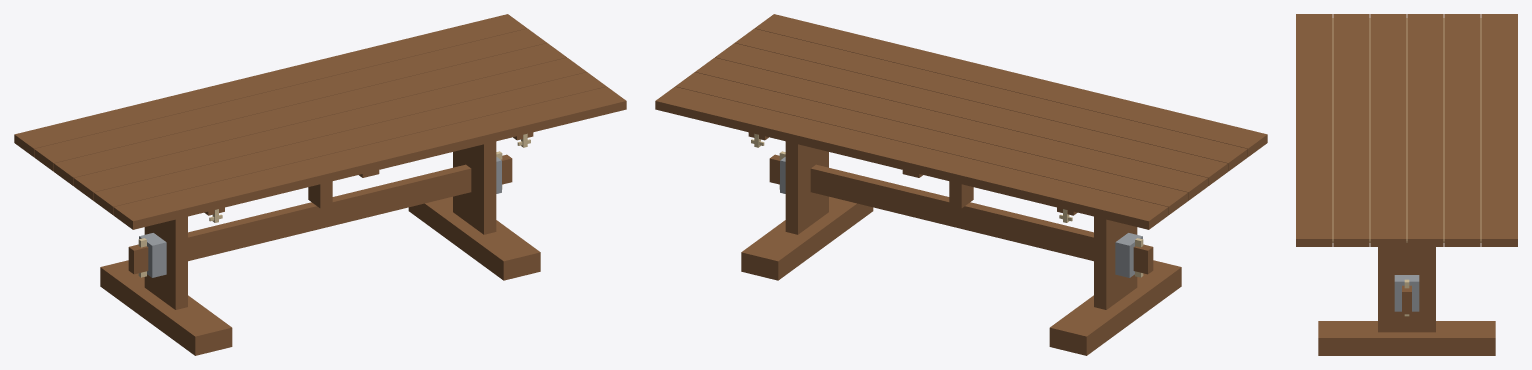
3 views of the same model, side by side, from view 1: azimuth 30°, elevation 25°; view 2: azimuth 150°, elevation 25°; view 3: azimuth 270°, elevation 25° (orthographic). The views are drawn at different scales.
Parts seen in each view (by area): view 1: tabla_1, tabla_6, tabla_2, tabla_3, tabla_4, tabla_5, travesaño, pie_izq, pie_der, montante_der, montante_izq, collar_izq (+1 smaller); view 2: tabla_6, tabla_1, tabla_4, tabla_5, tabla_3, tabla_2, travesaño, pie_izq, pie_der, montante_der, montante_izq, collar_izq (+1 smaller); view 3: tabla_1, tabla_2, tabla_3, tabla_4, tabla_5, tabla_6, pie_der, montante_der, collar_der, lengüeta_1, lengüeta_2, lengüeta_3 (+3 smaller).
Boxes of the visible parts, box(x1,y1,x2,y2) form: tabla_1: box(113, 86, 626, 229); tabla_6: box(14, 14, 527, 156); tabla_2: box(93, 72, 606, 215); tabla_3: box(74, 57, 586, 200); tabla_4: box(54, 43, 566, 186); tabla_5: box(34, 28, 546, 171); travesaño: box(128, 154, 512, 274); pie_izq: box(100, 260, 232, 355); pie_der: box(408, 196, 540, 280); montante_der: box(453, 141, 496, 234); montante_izq: box(144, 216, 187, 309); collar_izq: box(139, 233, 166, 277); tabla_6: box(655, 86, 1168, 229); tabla_1: box(754, 14, 1267, 156); tabla_4: box(695, 57, 1207, 200); tabla_5: box(675, 72, 1188, 215); tabla_3: box(715, 43, 1227, 186); tabla_2: box(735, 28, 1247, 171); travesaño: box(769, 154, 1153, 274); pie_izq: box(1049, 260, 1181, 355); pie_der: box(741, 196, 873, 280); montante_der: box(785, 141, 828, 234); montante_izq: box(1094, 216, 1137, 309); collar_izq: box(1115, 233, 1142, 277); tabla_1: box(1296, 14, 1332, 246); tabla_2: box(1333, 14, 1369, 246); tabla_3: box(1370, 14, 1406, 246); tabla_4: box(1407, 14, 1443, 246); tabla_5: box(1444, 14, 1480, 246); tabla_6: box(1481, 14, 1517, 246); pie_der: box(1318, 321, 1495, 355); montante_der: box(1378, 243, 1435, 332); collar_der: box(1394, 275, 1419, 311); lengüeta_1: box(1332, 18, 1333, 242); lengüeta_2: box(1369, 18, 1370, 242); lengüeta_3: box(1406, 18, 1407, 242).
Size of the model in its own units: 2.4 by 0.75 by 1.
